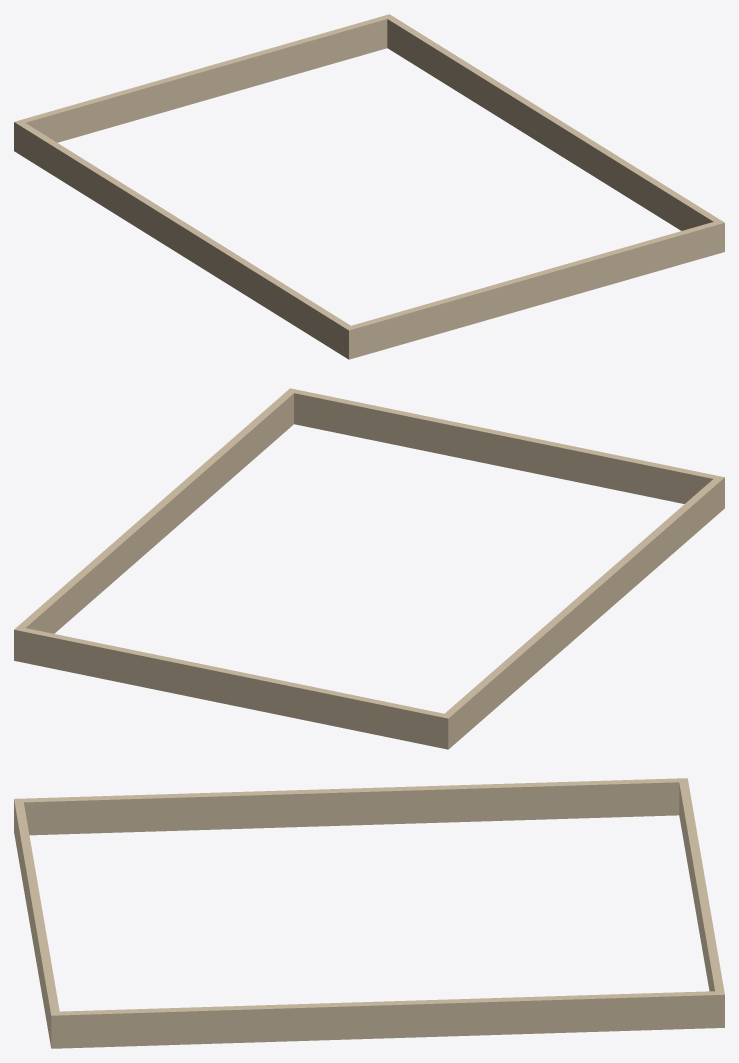
3 renders of one model, top to bottom at view 1: azimuth 30°, elevation 25°; view 2: azimuth 150°, elevation 25°; view 3: azimuth 270°, elevation 25°, orthographic. The views are drawn at different scales.
Visible parts, largest first — view 1: SM_5e7f848b664fcd6b2a1e; view 2: SM_5e7f848b664fcd6b2a1e; view 3: SM_5e7f848b664fcd6b2a1e.
Boxes of the visible parts, x1,y1,x2,y2 form: SM_5e7f848b664fcd6b2a1e: (14, 14, 724, 359); SM_5e7f848b664fcd6b2a1e: (14, 388, 724, 749); SM_5e7f848b664fcd6b2a1e: (14, 778, 724, 1048).
Bounding box in the file's own units: 11.01 × 13.92 × 0.715.
